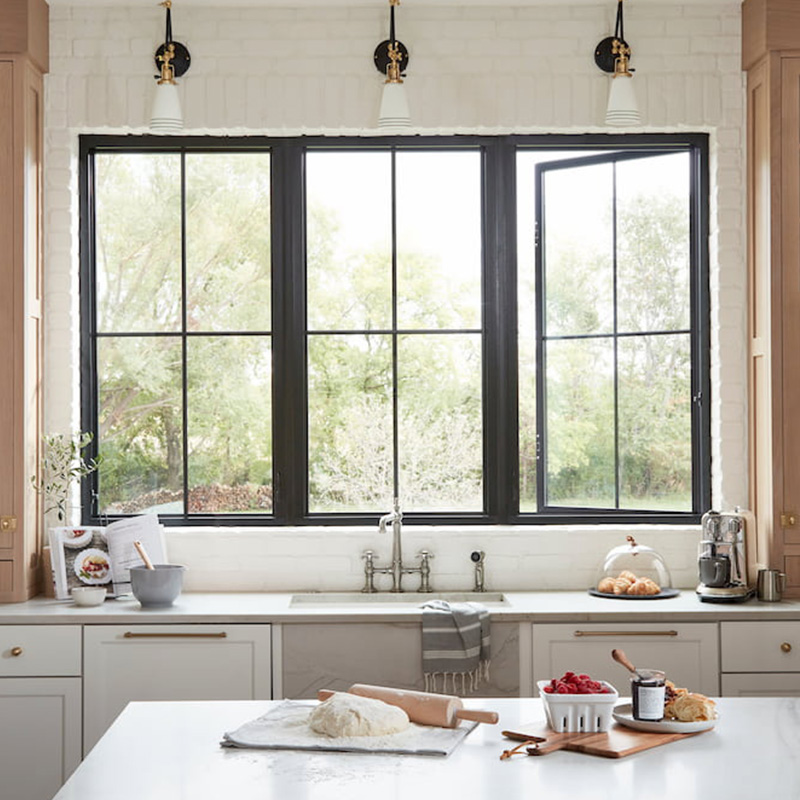Window: (77, 132, 715, 522)
